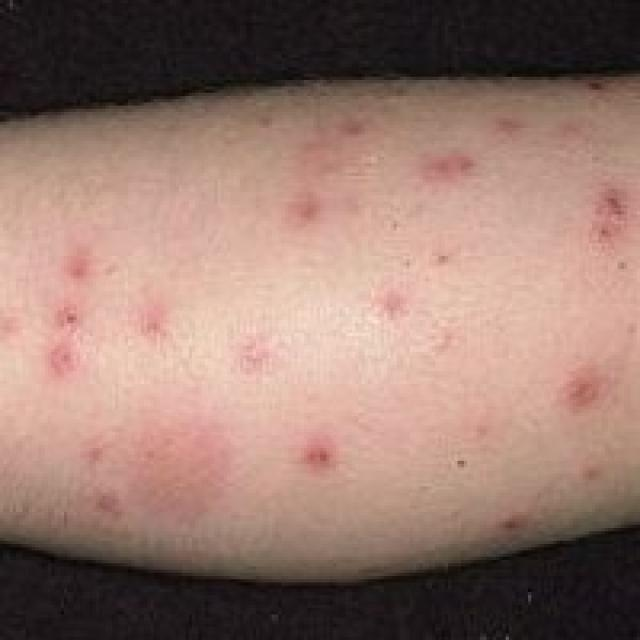kene: (16, 111, 640, 547)
